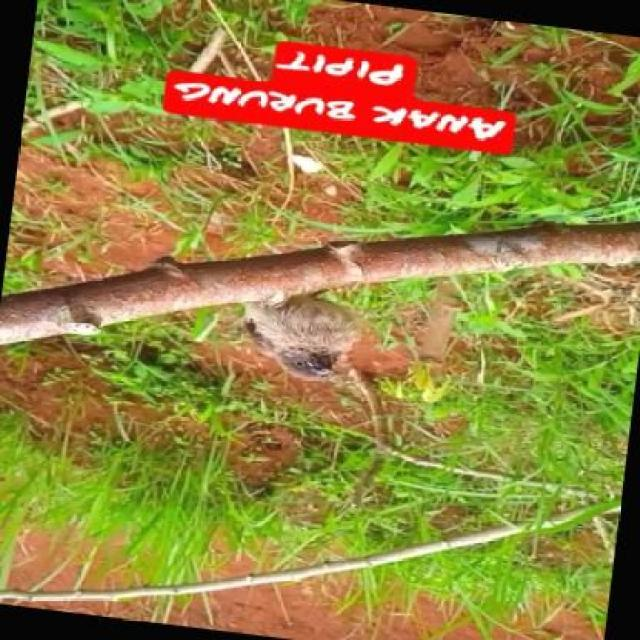Bird: (239, 291, 369, 399)
